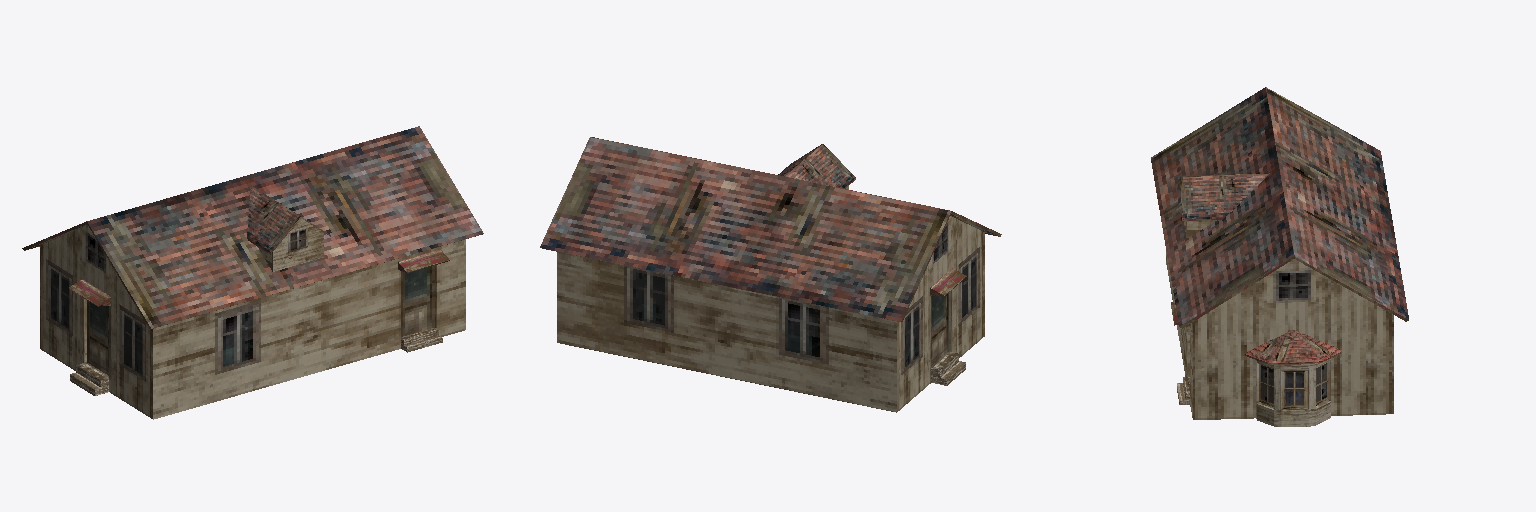
3 views of the same model, side by side, from view 1: azimuth 30°, elevation 25°; view 2: azimuth 150°, elevation 25°; view 3: azimuth 270°, elevation 25° (orthographic).
Visible parts, largest first — view 1: Cube_Cube.002; view 2: Cube_Cube.002; view 3: Cube_Cube.002.
Boxes of the visible parts, box(x1,y1,x2,y2) form: Cube_Cube.002: box(22, 126, 483, 419); Cube_Cube.002: box(540, 137, 1001, 412); Cube_Cube.002: box(1151, 87, 1408, 426).
Bounding box in the file's own units: 33.93 × 14.67 × 20.74.
3 materials, 1 textured.